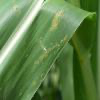Corn rust leaf: (0, 1, 96, 100)
